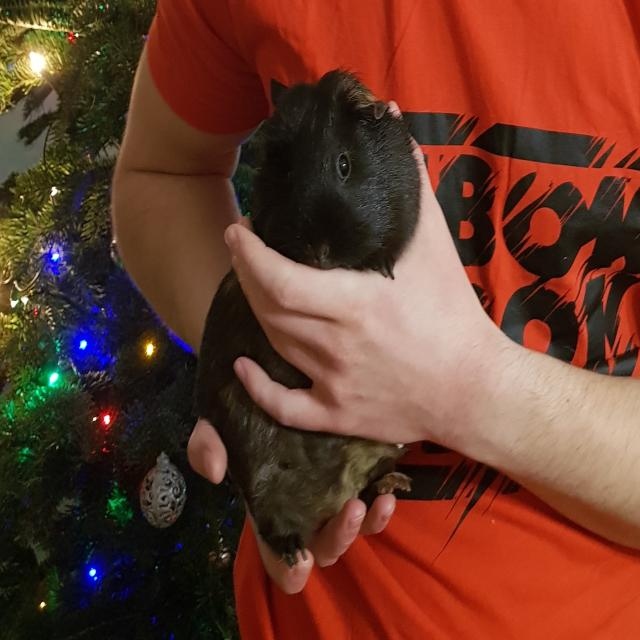guinea pig: (194, 65, 424, 569)
